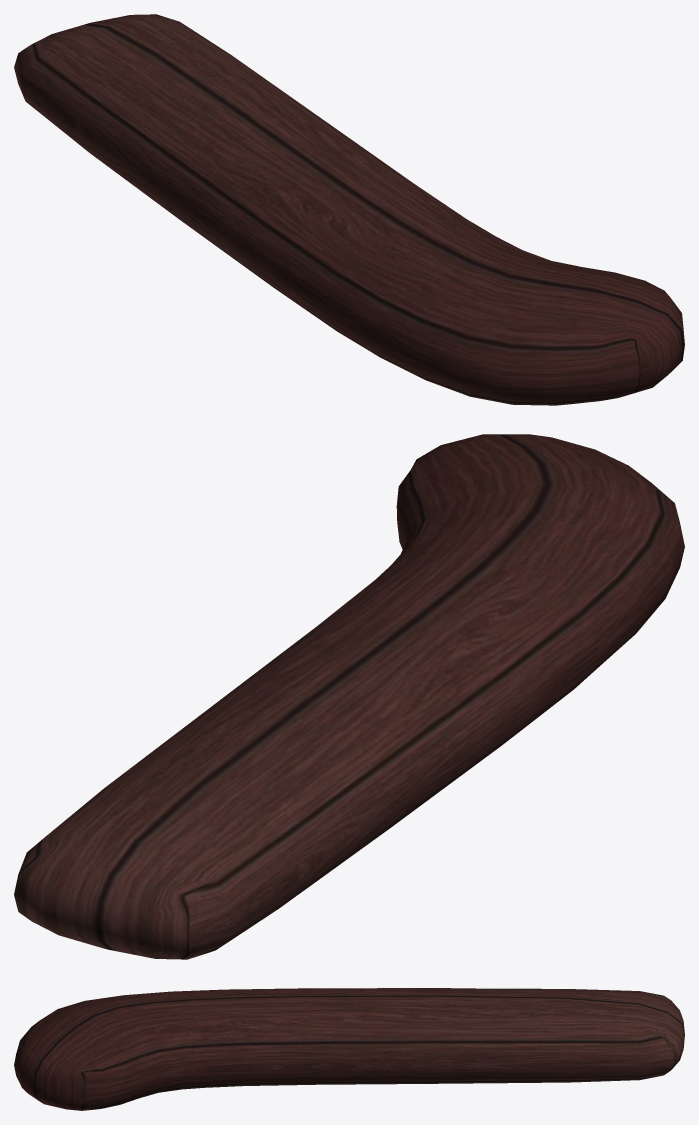
File: Keris_part_0.fbx
The picture shows the model from 3 angles, top to bottom: view 1: azimuth 30°, elevation 25°; view 2: azimuth 150°, elevation 25°; view 3: azimuth 270°, elevation 25°; orthographic projection. The views are drawn at different scales.
Parts seen in each view (by area): view 1: Object_4.001; view 2: Object_4.001; view 3: Object_4.001.
Boxes of the visible parts, x1,y1,x2,y2 form: Object_4.001: [14, 14, 684, 405]; Object_4.001: [14, 434, 684, 959]; Object_4.001: [14, 988, 684, 1110].
Bounding box in the file's own units: 43.11 × 17.98 × 140.
